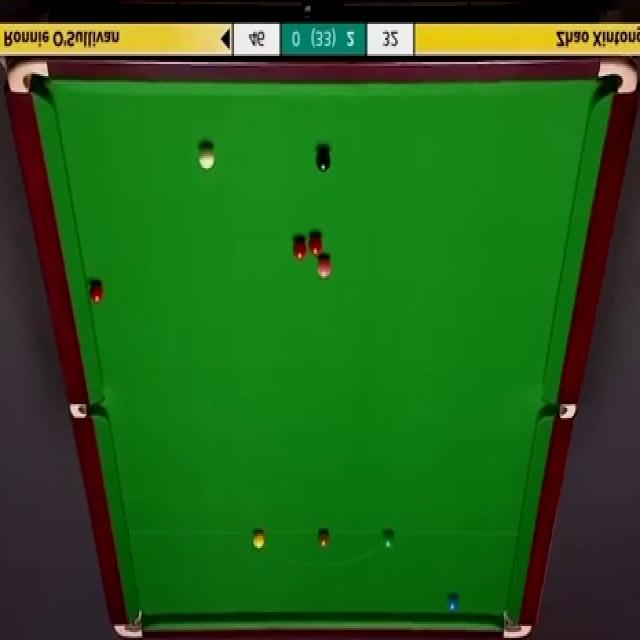black-ball: (314, 150, 332, 175)
blue-ball: (446, 596, 459, 613)
brown-ball: (316, 530, 331, 552)
green-ball: (380, 530, 395, 550)
pink-ball: (316, 256, 332, 280)
red-ball: (88, 282, 105, 304), (308, 234, 324, 257), (293, 241, 308, 262)
white-ball: (198, 146, 216, 172)
yellow-ball: (252, 531, 265, 552)
